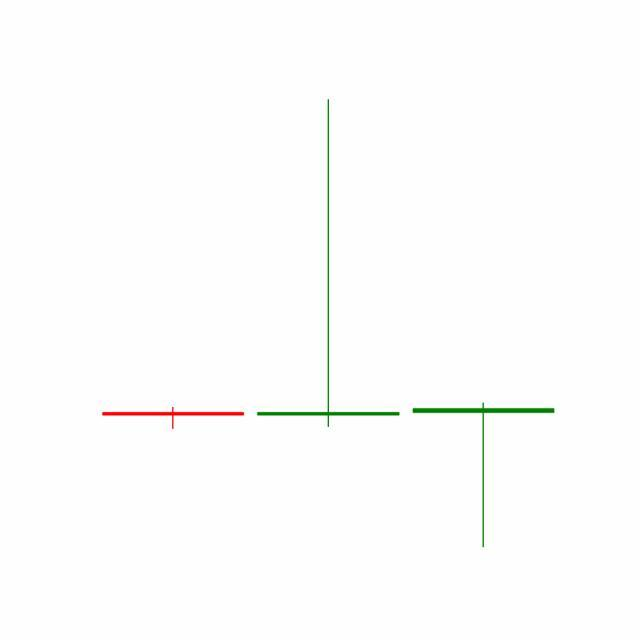Spinning Top: (406, 402, 562, 550)
